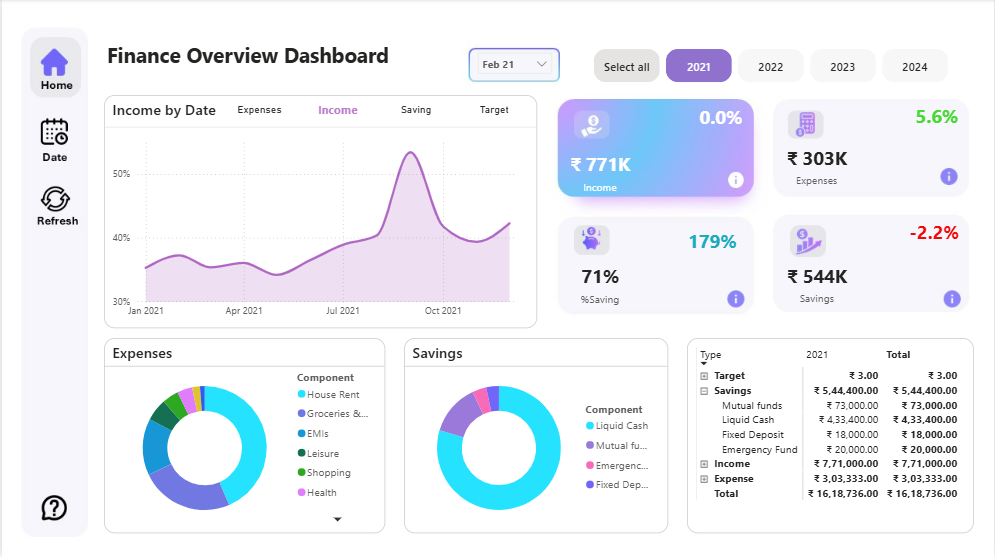

This screenshot's page, from the dashboard's own definition file:
{"tool":"powerbi","page":{"name":"Page 1","canvas":[1280,720],"ordinal":0},"visuals":[{"type":"actionButton","title":"show","box":[32.6,146.4,61.9,67.6],"z":0,"group":"g1"},{"type":"card","fields":{"Values":["FinData.income"]},"box":[709.5,181.4,124.3,81.9],"z":0},{"type":"card","fields":{"Values":["FinData.Expenses"]},"box":[966.9,165.3,169.7,98],"z":1000},{"type":"card","fields":{"Values":["FinData.Savings"]},"box":[966.6,320.3,170.1,93.5],"z":2000},{"type":"card","fields":{"Values":["FinData.%Saving"]},"box":[709.5,321.8,124.3,92.2],"z":3000},{"type":"advancedSlicerVisual","fields":{"Values":["FinData.Year"]},"box":[759.1,60,471.2,53.1],"z":4000},{"type":"donutChart","title":"Savings ","fields":{"Y":["FinData.Savings"],"Category":["FinData.Component"]},"box":[518.4,437.8,341.3,252],"z":5000},{"type":"donutChart","title":"Expenses ","fields":{"Category":["FinData.Component"],"Y":["FinData.Expenses"]},"box":[131,437.8,362.9,252],"z":6000},{"type":"pivotTable","fields":{"Values":["FinData.total value"],"Rows":["FinData.Type","FinData.Component"],"Columns":["FinData.Year"]},"box":[884.2,437.8,370.1,252],"z":7000},{"type":"lineChart","fields":{"Category":["FinData.Date"],"Y":["line selection table.line cahrt Measure"]},"box":[131.7,124.3,558.8,301.3],"z":8000},{"type":"advancedSlicerVisual","fields":{"Values":["line selection table.Type"]},"box":[283.8,124.3,400.8,41],"z":9000},{"type":"textbox","box":[130.4,49.6,388.3,53.9],"z":10000},{"type":"slicer","fields":{"Values":["Selected_date.month_Year"]},"box":[604.2,60,115.6,43.9],"z":11000},{"type":"card","fields":{"Values":["FinData.Expenses monthly growth"]},"box":[1158.9,117,95,70.2],"z":12000},{"type":"card","fields":{"Values":["FinData.Income monthly growth"]},"box":[871.7,123.3,110.6,58.1],"z":13000},{"type":"card","fields":{"Values":["FinData.Saving monthly growth"]},"box":[1158.9,262.9,89.5,77.1],"z":14000},{"type":"card","fields":{"Values":["FinData.Expenses_vs_saving"]},"box":[871.2,286.3,90.8,53.7],"z":15000},{"type":"group","id":"g1","title":"Group 1","box":[32.6,144.6,75.1,69.4],"z":17000},{"type":"actionButton","title":"refresh","box":[32.6,234.8,75.4,66.8],"z":18000}]}

Visuals, with their boxes on the page's 1280x720 design canvas (x1, y1, x2, y2). These are canvas units, not pixel positions in the 995x557 screenshot, which may show the page scaled, cropped or inside an application window:
"show" actionButton: rect(33, 146, 94, 214)
card - FinData.income: rect(710, 181, 834, 263)
card - FinData.Expenses: rect(967, 165, 1137, 263)
card - FinData.Savings: rect(967, 320, 1137, 414)
card - FinData.%Saving: rect(710, 322, 834, 414)
advancedSlicerVisual - FinData.Year: rect(759, 60, 1230, 113)
"Savings " donutChart: rect(518, 438, 860, 690)
"Expenses " donutChart: rect(131, 438, 494, 690)
pivotTable - FinData.total value x FinData.Type: rect(884, 438, 1254, 690)
lineChart - FinData.Date x line selection table.line cahrt Measure: rect(132, 124, 690, 426)
advancedSlicerVisual - line selection table.Type: rect(284, 124, 685, 165)
textbox: rect(130, 50, 519, 104)
slicer - Selected_date.month_Year: rect(604, 60, 720, 104)
card - FinData.Expenses monthly growth: rect(1159, 117, 1254, 187)
card - FinData.Income monthly growth: rect(872, 123, 982, 181)
card - FinData.Saving monthly growth: rect(1159, 263, 1248, 340)
card - FinData.Expenses_vs_saving: rect(871, 286, 962, 340)
"Group 1" group: rect(33, 145, 108, 214)
"refresh" actionButton: rect(33, 235, 108, 302)
